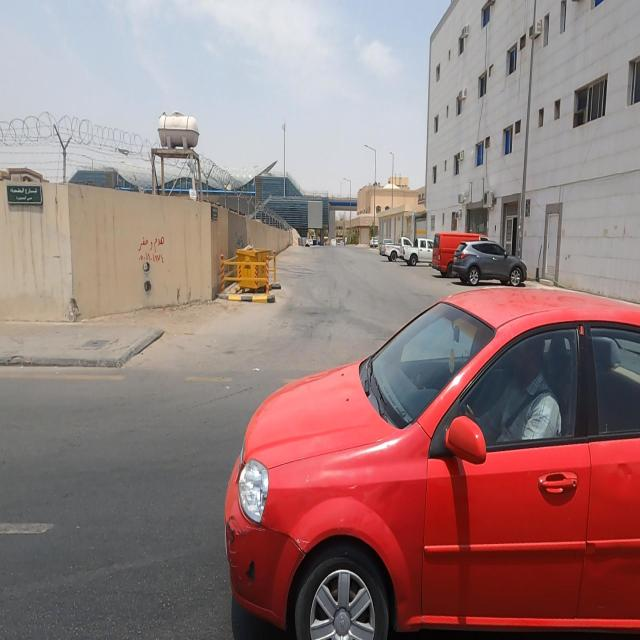Graffiti: (137, 233, 165, 266), (235, 231, 247, 246)
